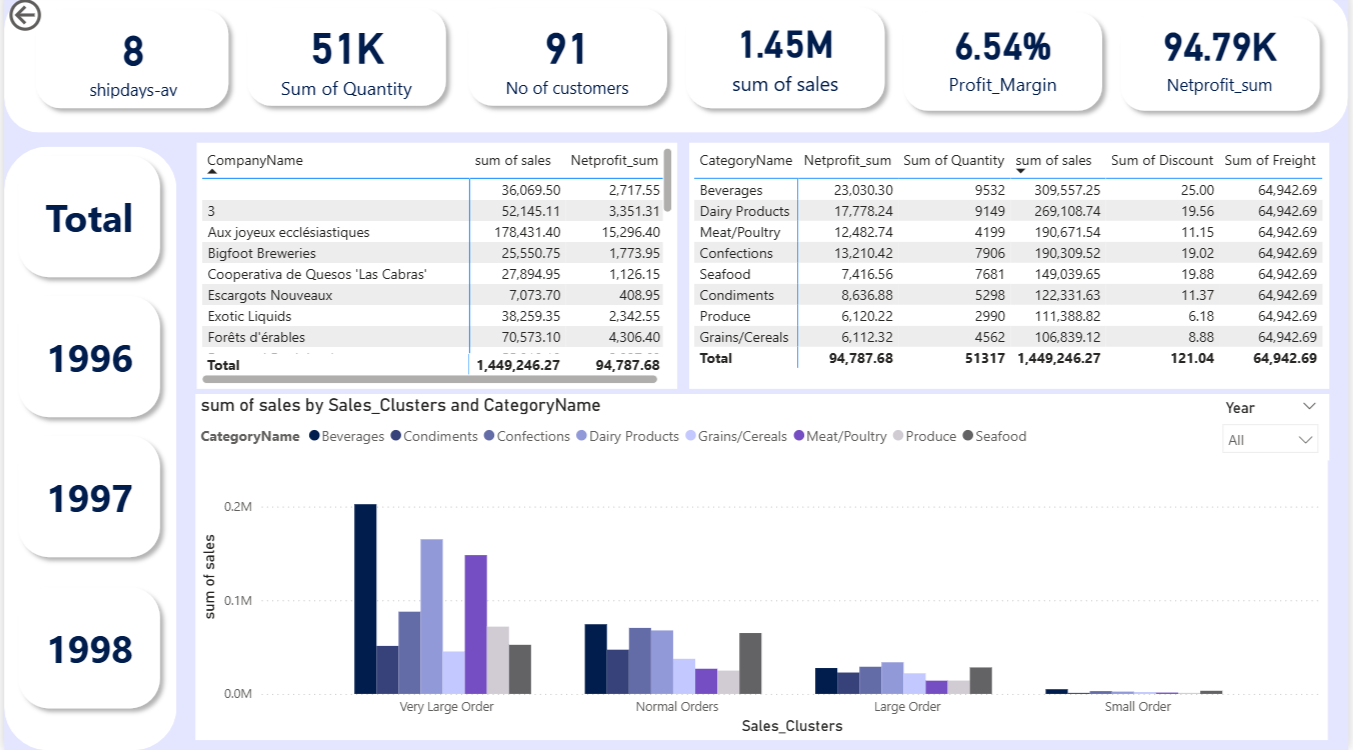

What the dashboard file says about the page in this screenshot:
{"tool":"powerbi","page":{"name":"Page 2","canvas":[1280,720],"ordinal":1},"visuals":[{"type":"shape","box":[0,0,1279.8,132.1],"z":0},{"type":"shape","box":[0,145.2,164.3,575],"z":1000},{"type":"shape","box":[21.4,6,201.2,111.9],"z":2000},{"type":"shape","box":[222.6,4.8,207.1,110.7],"z":3000},{"type":"shape","box":[640.5,3.6,207.1,114.3],"z":4000},{"type":"shape","box":[433.3,4.8,207.1,110.7],"z":5000},{"type":"shape","box":[847.6,8.3,207.1,111.9],"z":6000},{"type":"shape","box":[1054.8,13.1,207.1,107.1],"z":7000},{"type":"card","fields":{"Values":["Key Measure.Sum of Quantity"]},"box":[247.6,13.1,157.1,92.9],"z":8000},{"type":"card","fields":{"Values":["Key Measure.No of customers"]},"box":[469.1,13.1,134.5,90.5],"z":9000},{"type":"card","fields":{"Values":["Key Measure.sum of sales"]},"box":[673.8,10.7,140.5,92.9],"z":10000},{"type":"card","fields":{"Values":["Key Measure.Profit_Margin"]},"box":[881,8.3,140.5,98.8],"z":11000},{"type":"card","fields":{"Values":["Key Measure.Netprofit_sum"]},"box":[1086.9,10.7,141.7,94],"z":12000},{"type":"card","fields":{"Values":["Key Measure.shipdays-av"]},"box":[61.9,17.9,122.6,86.9],"z":13000},{"type":"pivotTable","fields":{"Rows":["Suppliers.CompanyName"],"Values":["Key Measure.sum of sales","Key Measure.Netprofit_sum"]},"box":[183.9,141.8,457.6,234.4],"z":14000},{"type":"pivotTable","fields":{"Rows":["Categories.CategoryName"],"Values":["Key Measure.Netprofit_sum","Key Measure.Sum of Quantity","Key Measure.sum of sales","Sum(OrdersDetails.Discount)","Sum(Orders.Freight)"]},"box":[652.4,141.7,609.5,234.5],"z":15000},{"type":"actionButton","box":[0,0,100,40],"z":16000},{"type":"clusteredColumnChart","fields":{"Category":["OrdersDetails.Sales_Clusters"],"Y":["Key Measure.sum of sales"],"Series":["Categories.CategoryName"]},"box":[182.7,381.1,1078.3,329.4],"z":17000},{"type":"shape","box":[4.8,145.5,152.7,133.4],"z":18000},{"type":"shape","box":[4.8,278.9,152.7,133.4],"z":19000},{"type":"shape","box":[4.8,555.4,152.7,133.4],"z":20000},{"type":"shape","box":[4.8,412.3,152.7,133.4],"z":21000},{"type":"slicer","fields":{"Values":["Calendar.Date.Variation.Date Hierarchy.Year"]},"box":[1150,381,111.9,63.1],"z":22000}]}

Visuals, with their boxes in screenshot pixels (x1, y1, x2, y2), scaled from the page's 1280x720 canvas onto the 1353x750 screenshot:
shape: crop(0, 0, 1352, 138)
shape: crop(0, 151, 174, 749)
shape: crop(23, 6, 235, 123)
shape: crop(235, 5, 454, 120)
shape: crop(677, 4, 896, 123)
shape: crop(458, 5, 677, 120)
shape: crop(896, 9, 1115, 125)
shape: crop(1115, 14, 1334, 125)
card - Key Measure.Sum of Quantity: crop(262, 14, 428, 110)
card - Key Measure.No of customers: crop(496, 14, 638, 108)
card - Key Measure.sum of sales: crop(712, 11, 861, 108)
card - Key Measure.Profit_Margin: crop(931, 9, 1080, 112)
card - Key Measure.Netprofit_sum: crop(1149, 11, 1299, 109)
card - Key Measure.shipdays-av: crop(65, 19, 195, 109)
pivotTable - Suppliers.CompanyName x Key Measure.sum of sales: crop(194, 148, 678, 392)
pivotTable - Categories.CategoryName x Key Measure.Netprofit_sum: crop(690, 148, 1334, 392)
actionButton: crop(0, 0, 106, 42)
clusteredColumnChart - OrdersDetails.Sales_Clusters x Key Measure.sum of sales: crop(193, 397, 1333, 740)
shape: crop(5, 152, 166, 291)
shape: crop(5, 291, 166, 429)
shape: crop(5, 579, 166, 718)
shape: crop(5, 429, 166, 568)
slicer - Calendar.Date.Variation.Date Hierarchy.Year: crop(1216, 397, 1334, 463)
